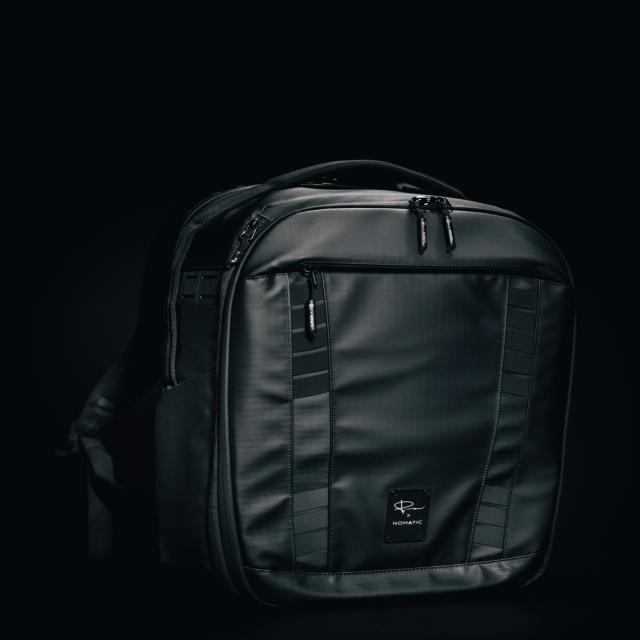backpack: (59, 159, 576, 601)
